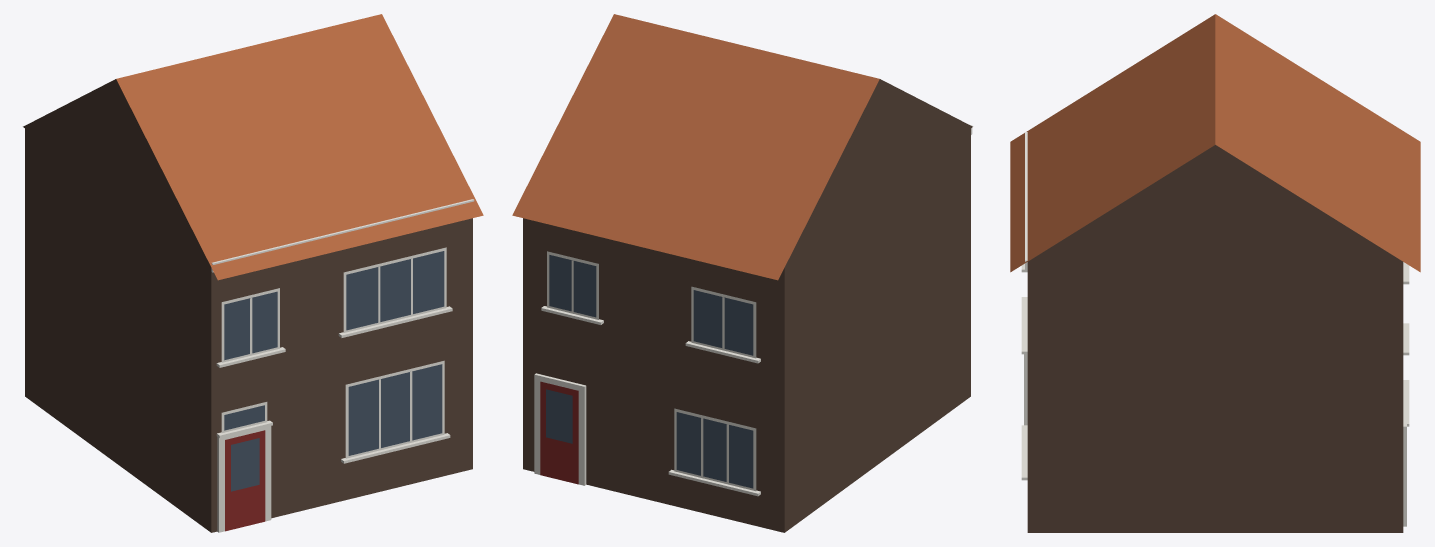
Rendered from nd-to-row__wide-orange__2__gable__long__solid__f1d0.glb.
The picture shows the model from 3 angles, left to right: view 1: azimuth 30°, elevation 25°; view 2: azimuth 150°, elevation 25°; view 3: azimuth 270°, elevation 25°; orthographic projection.
Parts seen in each view (by area): view 1: nd-to-row__wide-orange__2__gable__long__solid__f1d0; view 2: nd-to-row__wide-orange__2__gable__long__solid__f1d0; view 3: nd-to-row__wide-orange__2__gable__long__solid__f1d0.
Part boxes in pixels (box(x1,y1,x2,y2)): nd-to-row__wide-orange__2__gable__long__solid__f1d0: box(23, 14, 483, 532); nd-to-row__wide-orange__2__gable__long__solid__f1d0: box(512, 14, 972, 532); nd-to-row__wide-orange__2__gable__long__solid__f1d0: box(1010, 14, 1420, 532).
Size of the model in its own units: 6.24 by 8.66 by 8.28.
